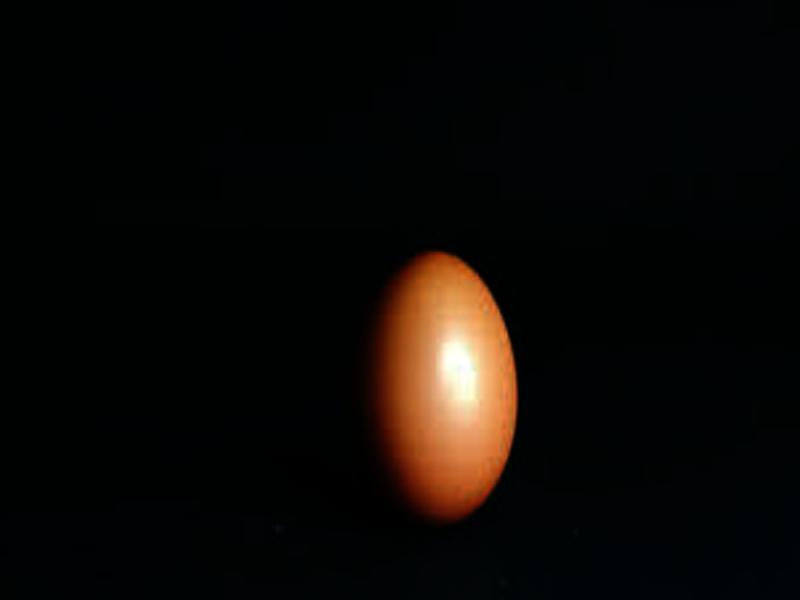Eggs: (355, 250, 515, 529)
